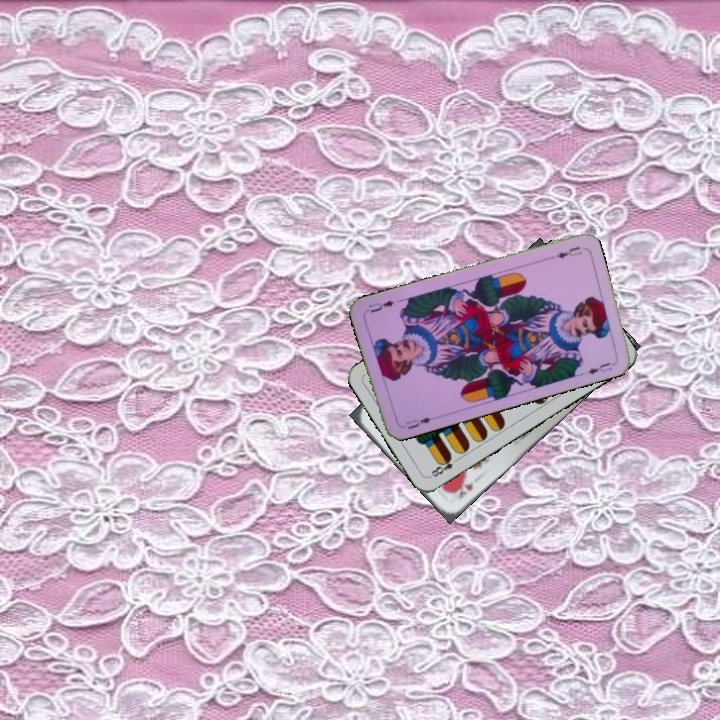E8: (426, 452, 463, 480)
EU: (402, 413, 438, 432), (553, 242, 584, 261)
HK: (449, 476, 476, 503)
